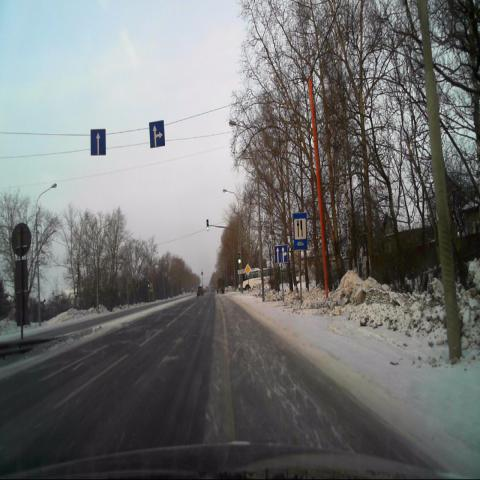5_5: (90, 128, 106, 157)
7_7: (293, 212, 307, 250)
